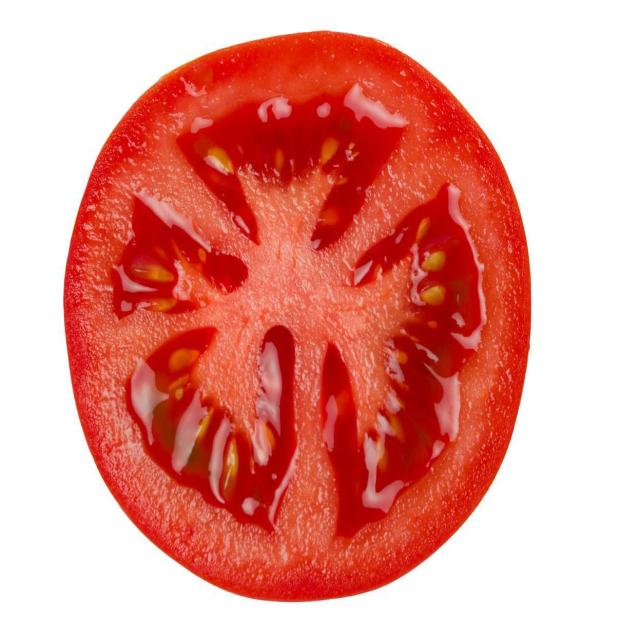Tomato: (64, 25, 536, 602)
